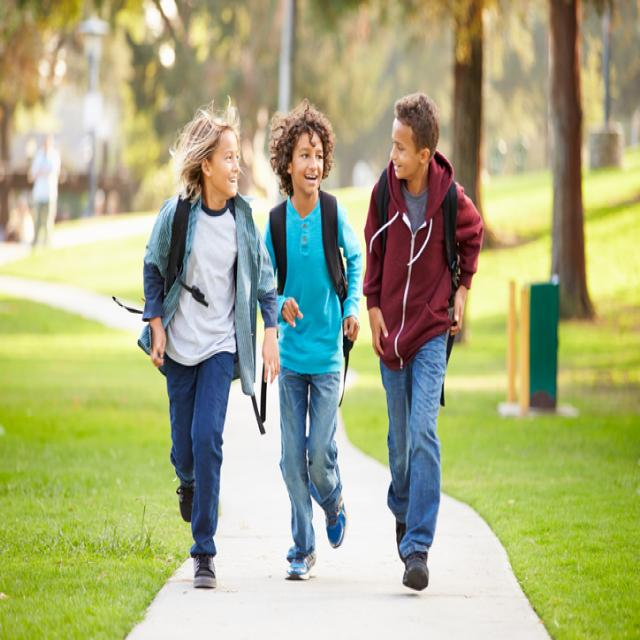Person: (138, 110, 279, 590), (364, 91, 484, 590), (263, 105, 364, 578)
